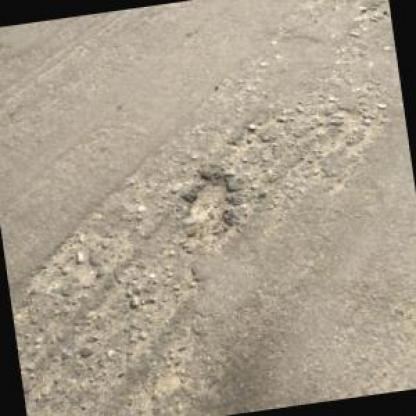pothole: (176, 169, 241, 246), (228, 119, 270, 158)
